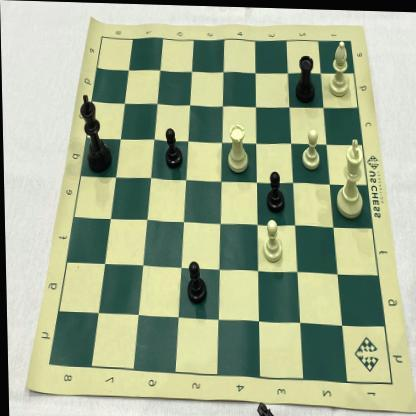black-king: (77, 90, 115, 176)
black-pawn: (182, 253, 208, 306), (263, 167, 287, 214), (162, 123, 183, 173)
black-rook: (293, 50, 318, 104)
white-bishop: (327, 35, 352, 98)
white-king: (332, 134, 367, 221)
white-pawn: (258, 215, 284, 263), (298, 123, 323, 170)
white-rook: (224, 120, 250, 175)
